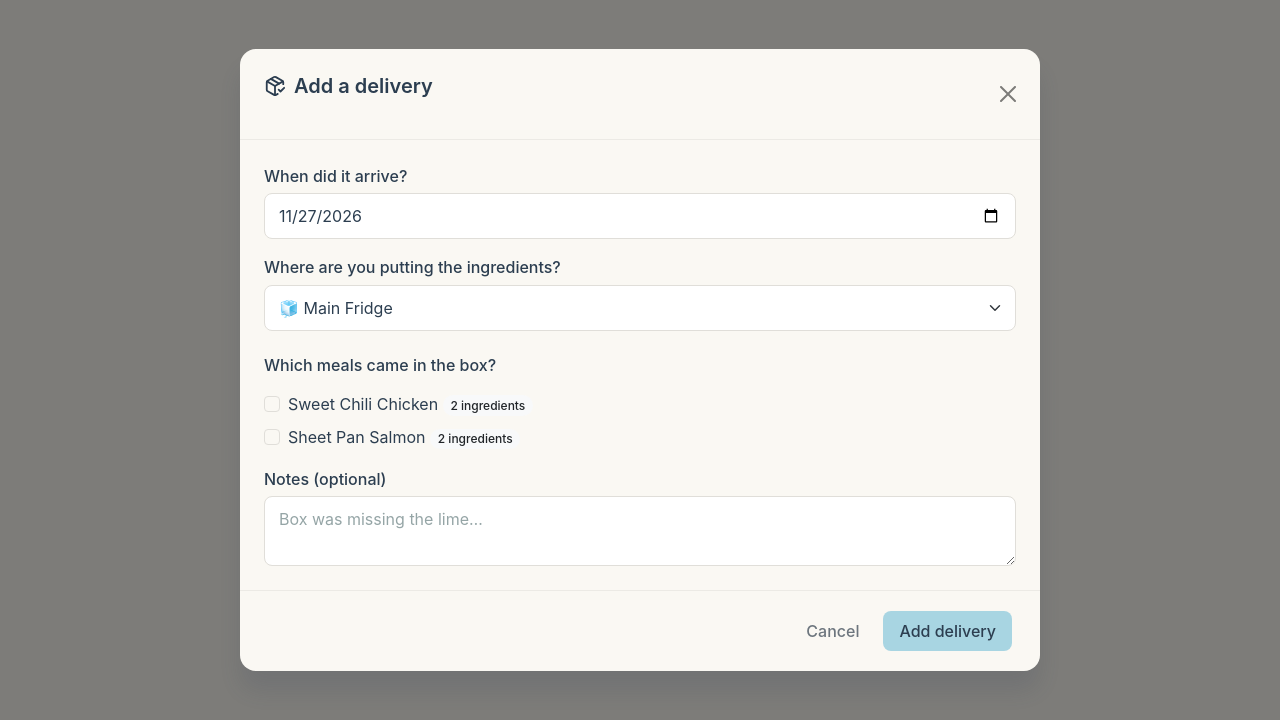
Test: asks for at least one meal before logging anything
The width and height of the screenshot is (1280, 720).
Step 1. Click the button "Add delivery" → (948, 631), box [884,611,1012,651]
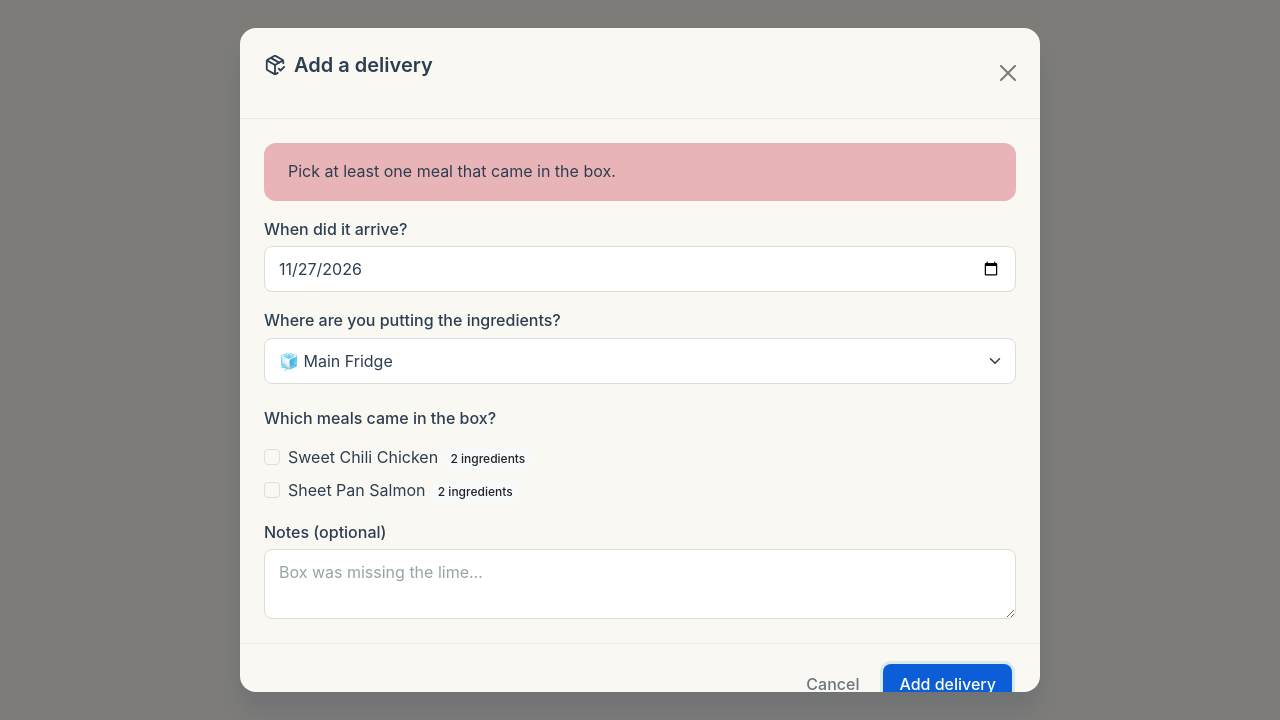
Expected: the text "Pick at least one meal that came in the box." is shown, [264,143,1016,201]
